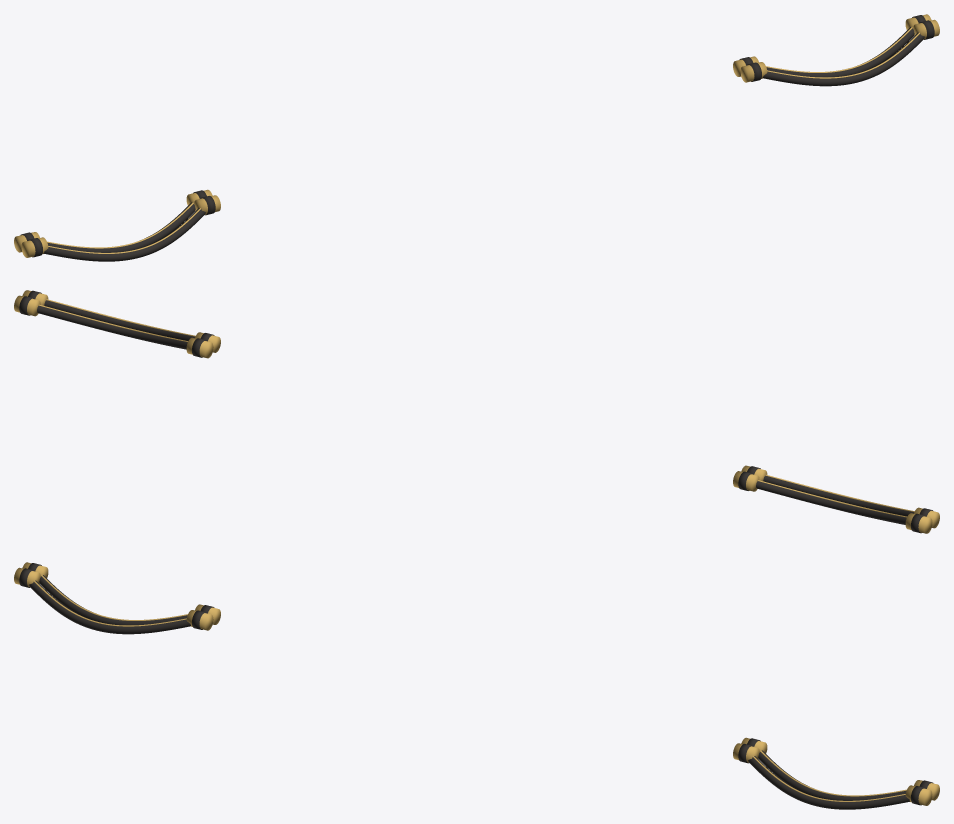
Rendered from connections.glb.
The picture shows the model from 3 angles, top to bottom: view 1: azimuth 30°, elevation 25°; view 2: azimuth 150°, elevation 25°; view 3: azimuth 330°, elevation 25°; orthographic projection.
Visible parts, largest first — view 1: connections_Obsidian, connections_Warm brass; view 2: connections_Obsidian, connections_Warm brass; view 3: connections_Obsidian, connections_Warm brass.
Boxes of the visible parts, x1,y1,x2,y2 form: connections_Obsidian: [20, 15, 934, 261]; connections_Warm brass: [14, 14, 939, 257]; connections_Obsidian: [19, 290, 932, 533]; connections_Warm brass: [14, 290, 939, 533]; connections_Obsidian: [19, 563, 933, 809]; connections_Warm brass: [14, 562, 939, 805].
Bounding box in the file's own units: 6.33 × 0.192 × 0.352.
